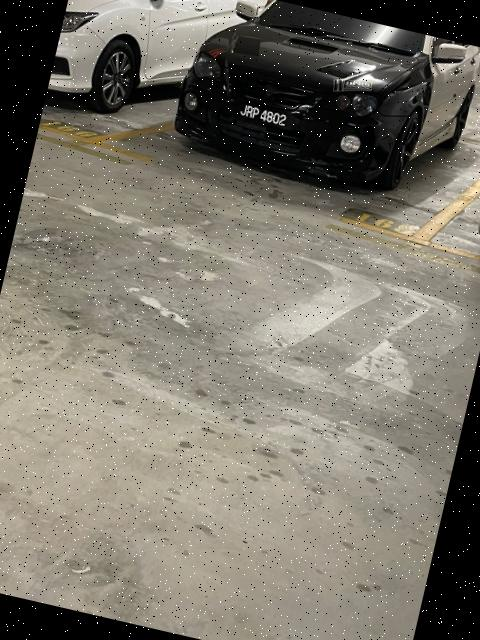License_Plate: (226, 97, 301, 135)
car: (164, 1, 450, 181)
